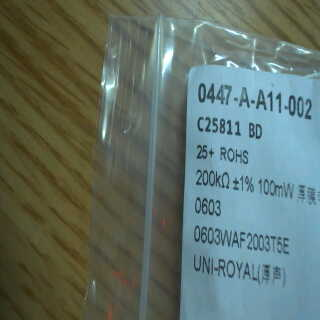200kR: (196, 166, 232, 191)
